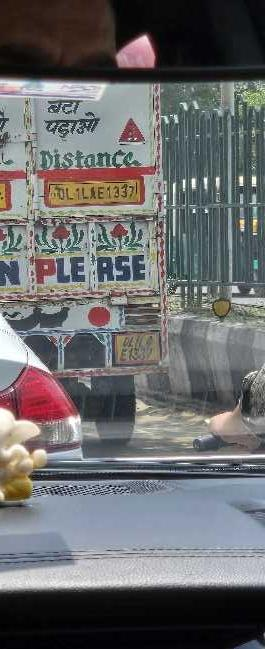License plate: (115, 333, 161, 365)
